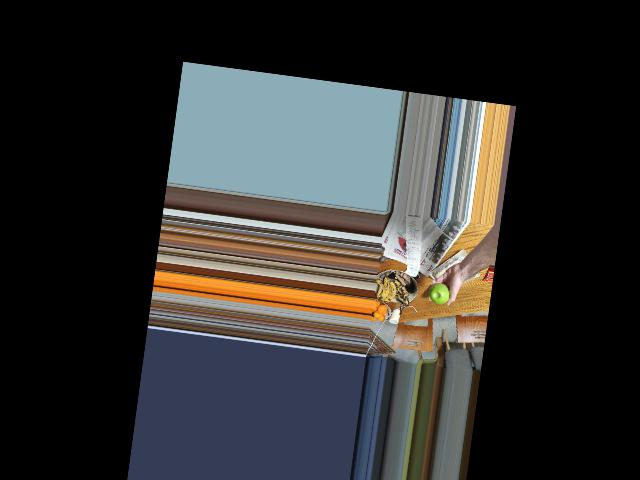apple: (427, 276, 449, 307)
